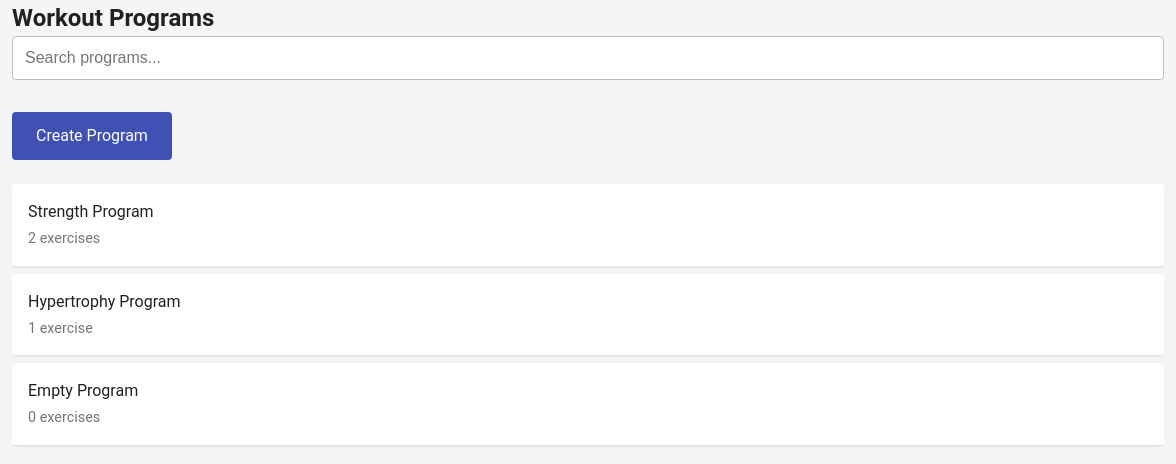
Test: ProgramList › filters programs based on search input
In the field with placeholder "Search programs...": point(588, 58) [12,36,1164,80], type "hyper"
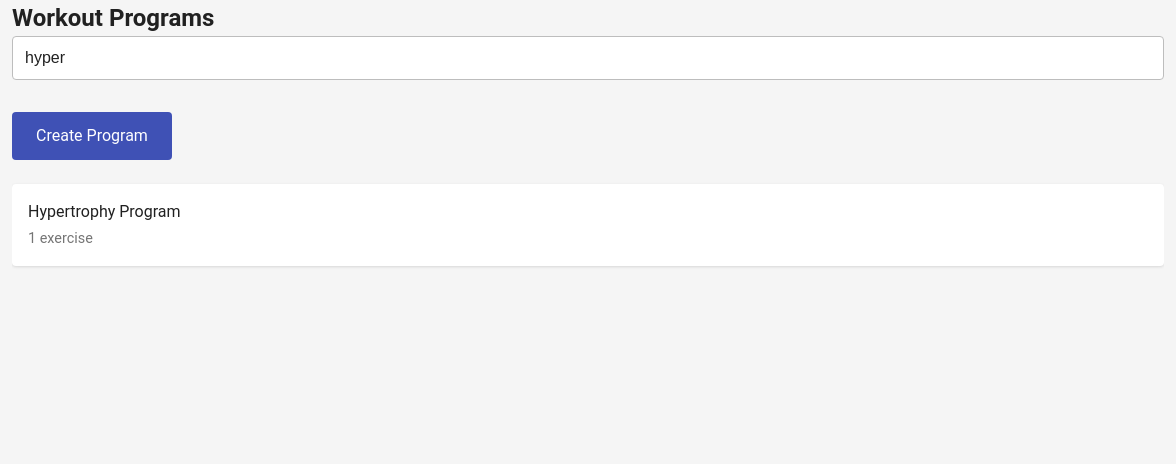
Expected: the text "Hypertrophy Program" is shown, [28,202,180,221]
Expected: the text "Strength Program" is gone
Expected: the text "Empty Program" is gone
